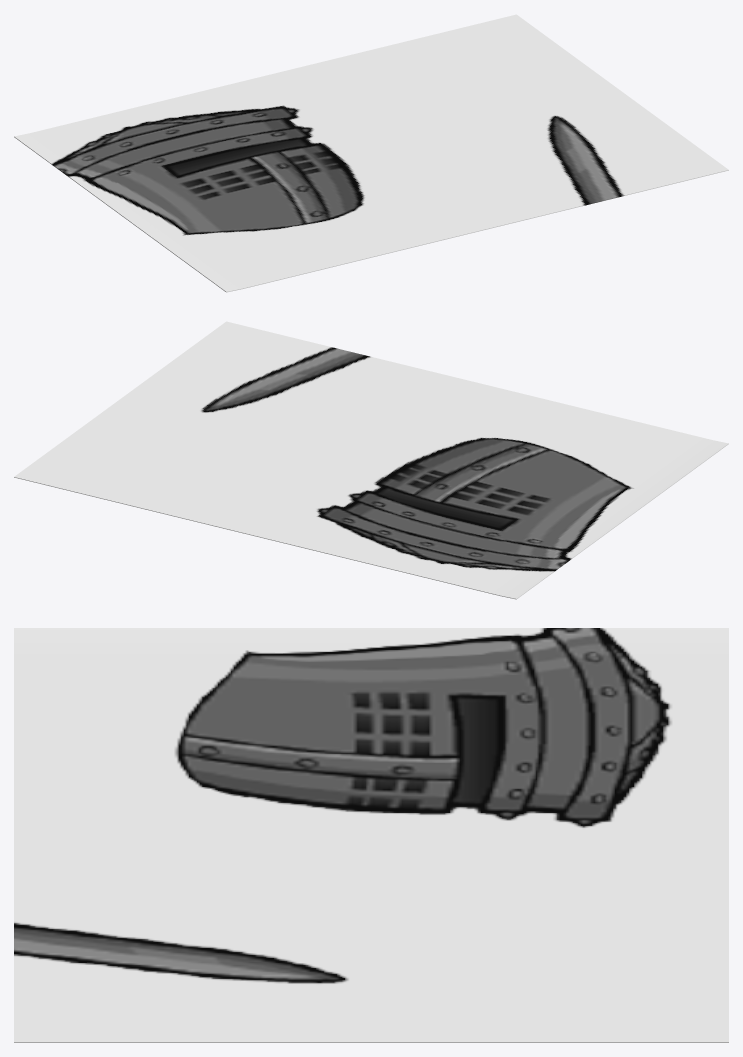
Rendered from Level 190 roll well.fbx.
3 views of the same model, one above another, from view 1: azimuth 30°, elevation 25°; view 2: azimuth 150°, elevation 25°; view 3: azimuth 270°, elevation 25° (orthographic). The views are drawn at different scales.
Visible parts, largest first — view 1: Blend; view 2: Blend; view 3: Blend.
Part boxes in pixels (x1=…): Blend: x1=14, y1=14, x2=728, y2=292; Blend: x1=14, y1=321, x2=728, y2=599; Blend: x1=14, y1=628, x2=728, y2=1042.
Size of what is drawn, in the model's own units: 892 by 2 by 653.
